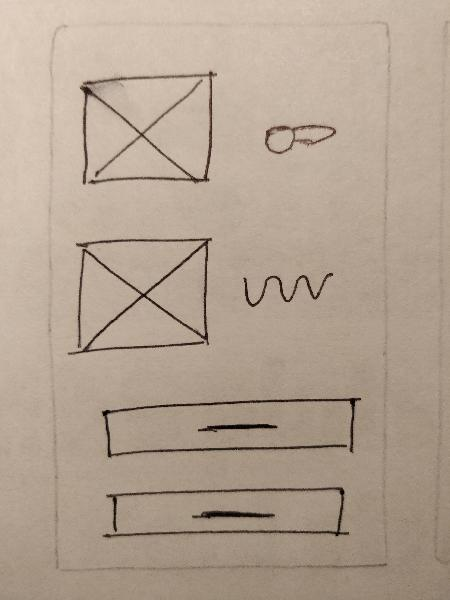button: (90, 393, 364, 464), (87, 482, 354, 545)
image: (66, 231, 216, 362), (75, 68, 222, 201)
switch: (254, 115, 344, 157)
text: (232, 260, 338, 312)
